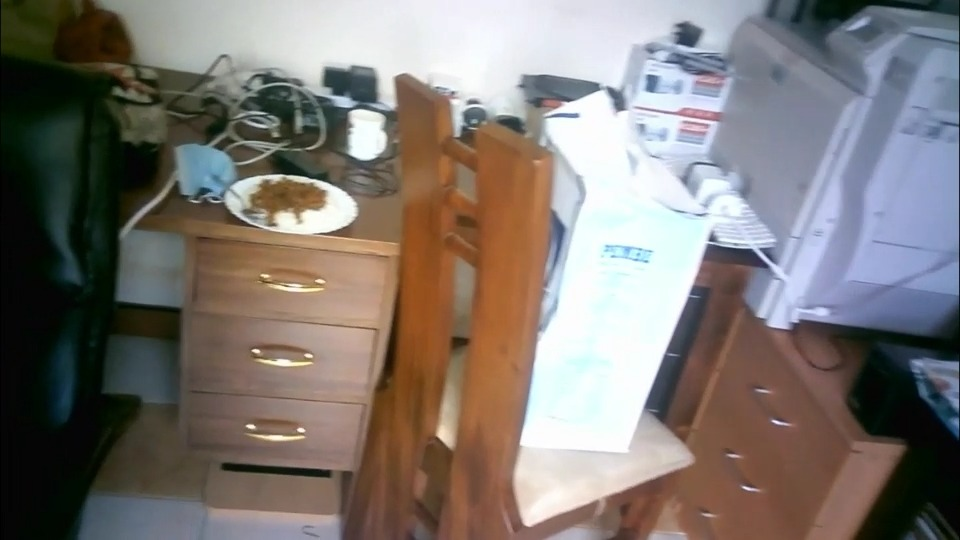wheat_flour_blue_label: (555, 92, 707, 461)
